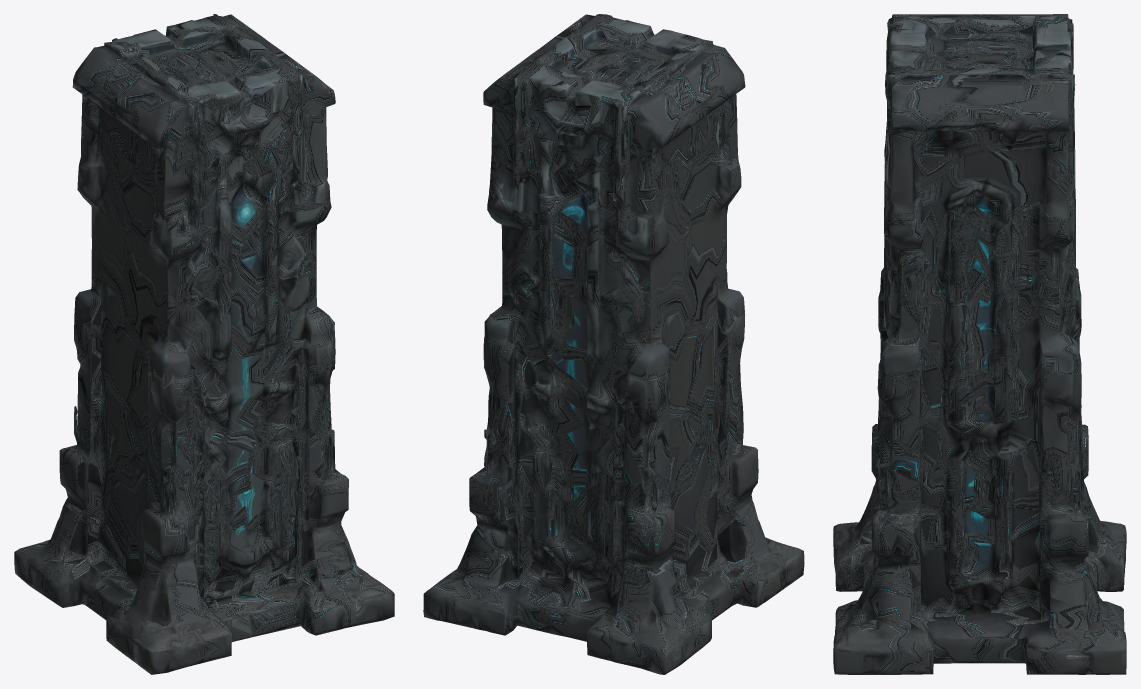
The model's file is alien-reactor.glb.
The picture shows the model from 3 angles, left to right: view 1: azimuth 30°, elevation 25°; view 2: azimuth 150°, elevation 25°; view 3: azimuth 270°, elevation 25°; orthographic projection. The views are drawn at different scales.
Size of the model in its own units: 0.9459 by 2 by 0.9359.
1 material, 1 textured.
